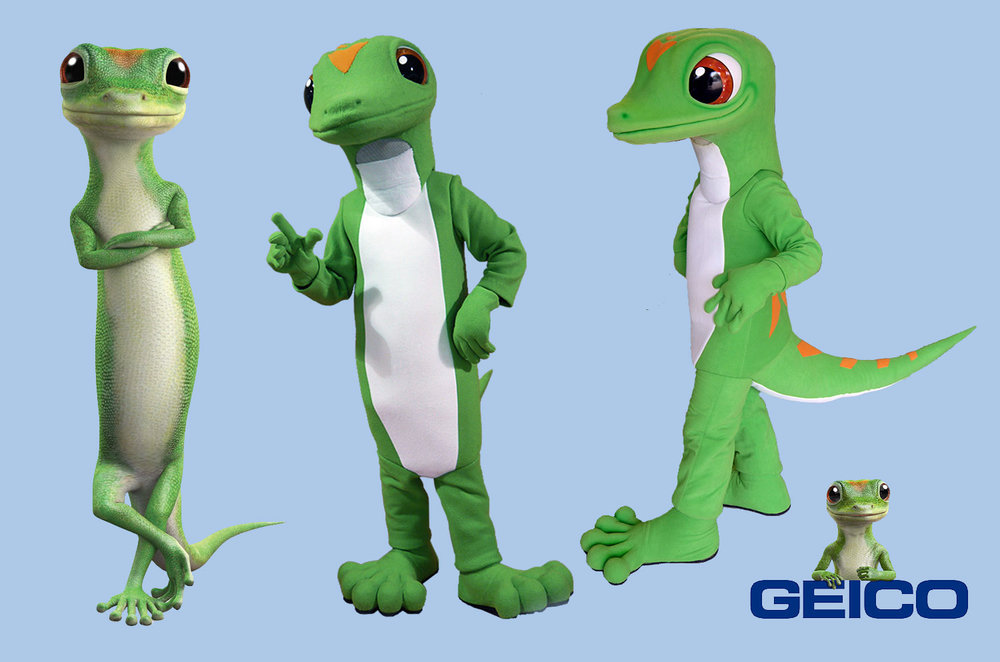geico: (748, 573, 978, 620)
